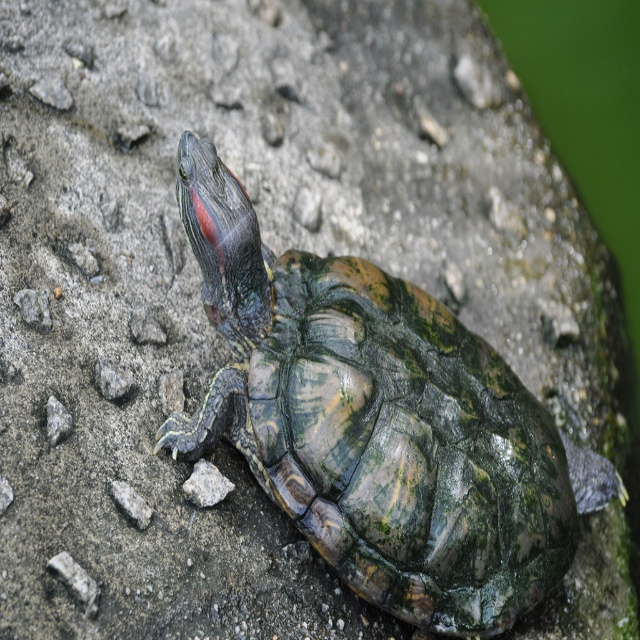Sea turtle: (150, 125, 630, 639)
